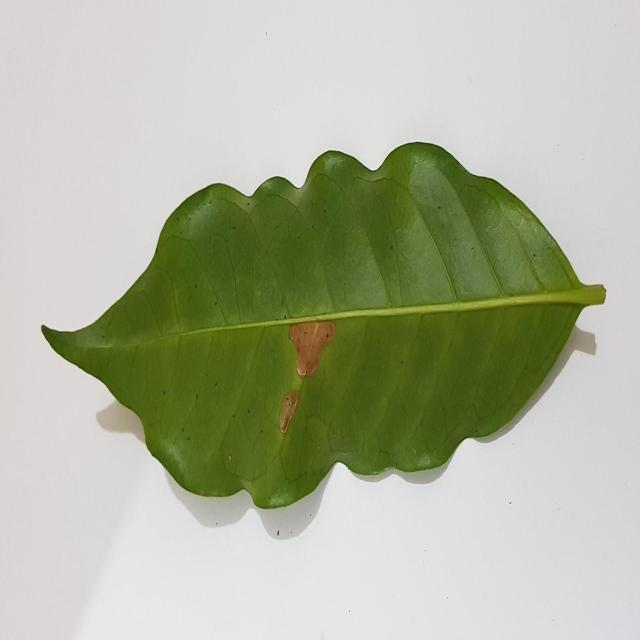miner: (289, 320, 335, 379), (280, 390, 299, 433)
